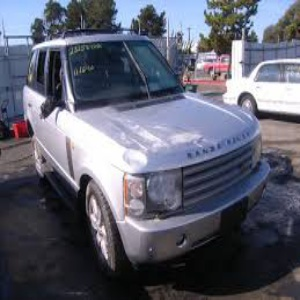bumper_scratch: (134, 215, 172, 266)
